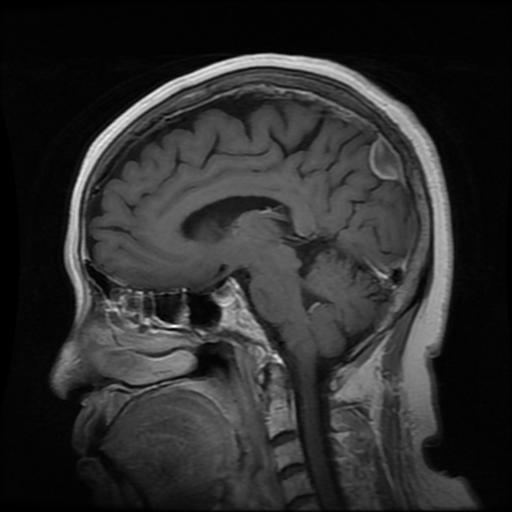Menigiomia_tumour: (369, 136, 402, 180)
